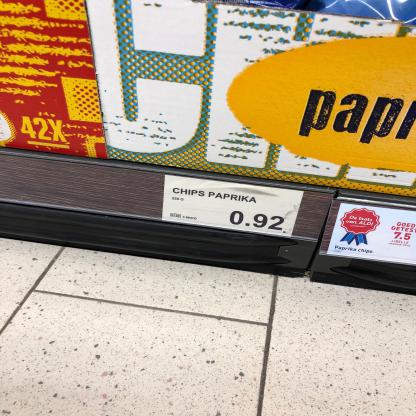prtg: (162, 175, 306, 238)
